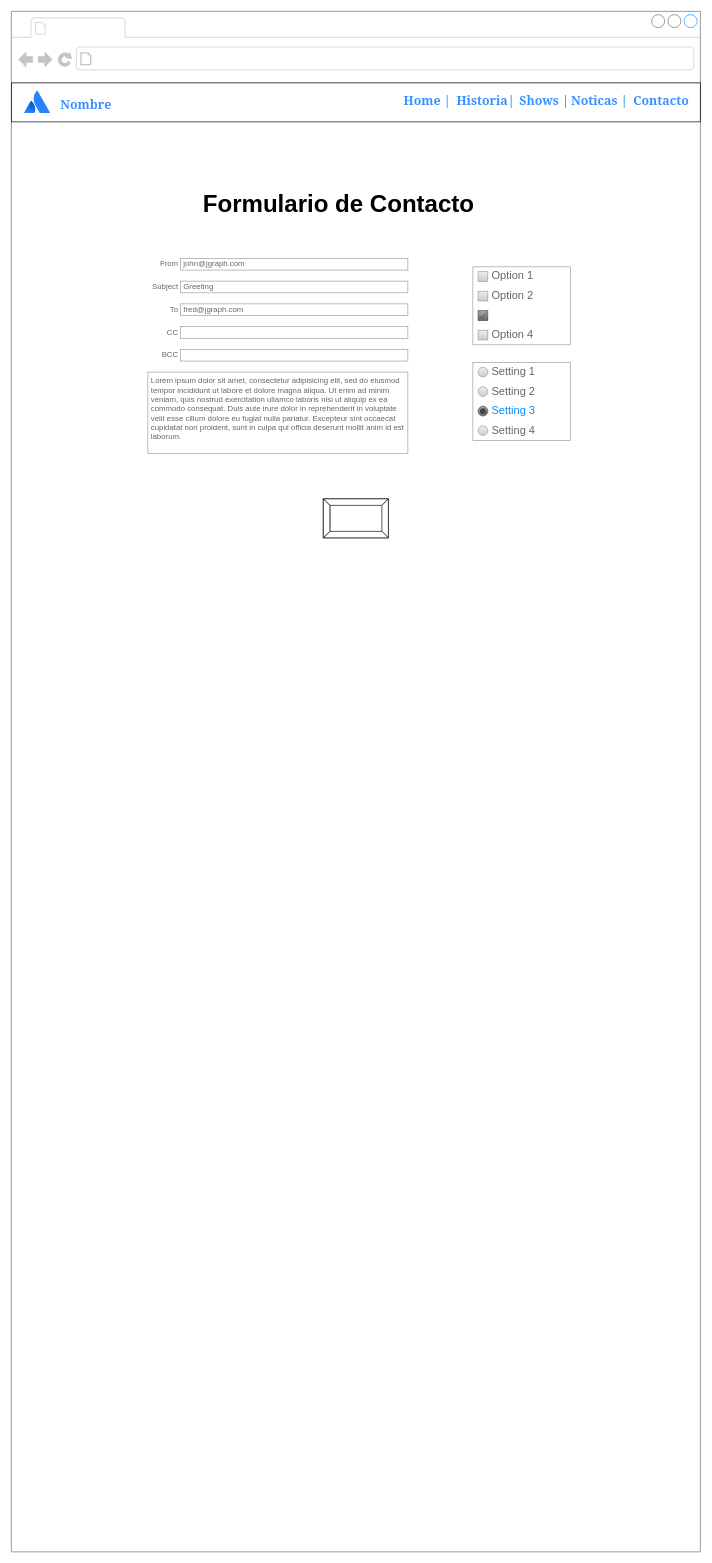
Some shapes in this 712 by 1563 pixel diagram are drawn without their labels. The shapes that lost their labels are listed below. From the top down, each one's centre as x and y in pixels, then its label:
At (x=86, y=27): "Page 1".
At (x=176, y=58): "https://www.draw.io".
At (x=482, y=315): "Option 3".
At (x=355, y=518): "Button".
